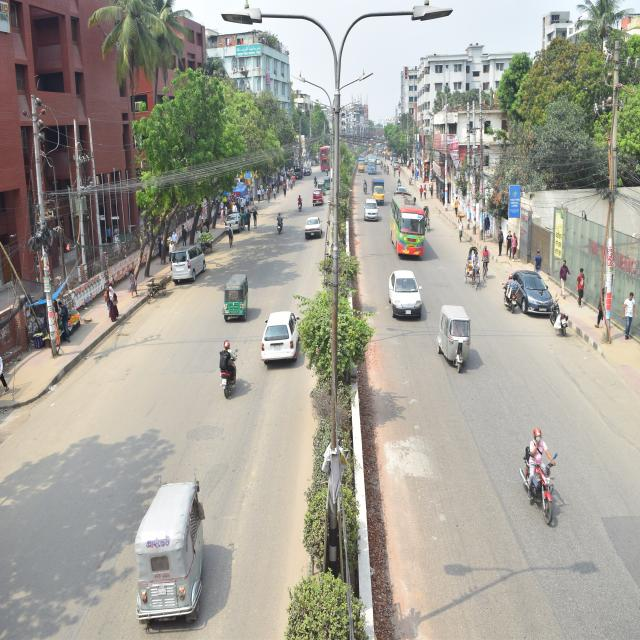bus: (391, 188, 427, 258), (367, 152, 378, 177)
car: (260, 297, 302, 371), (505, 263, 555, 322), (383, 270, 426, 327), (302, 210, 326, 241), (217, 217, 248, 241), (309, 188, 324, 207)
microbus: (165, 242, 212, 287)
motorbike: (509, 399, 559, 533), (217, 335, 244, 399), (547, 292, 577, 346), (499, 278, 518, 318), (275, 201, 288, 244), (291, 188, 305, 213), (360, 178, 370, 194)
pickup-van: (368, 174, 388, 208)
